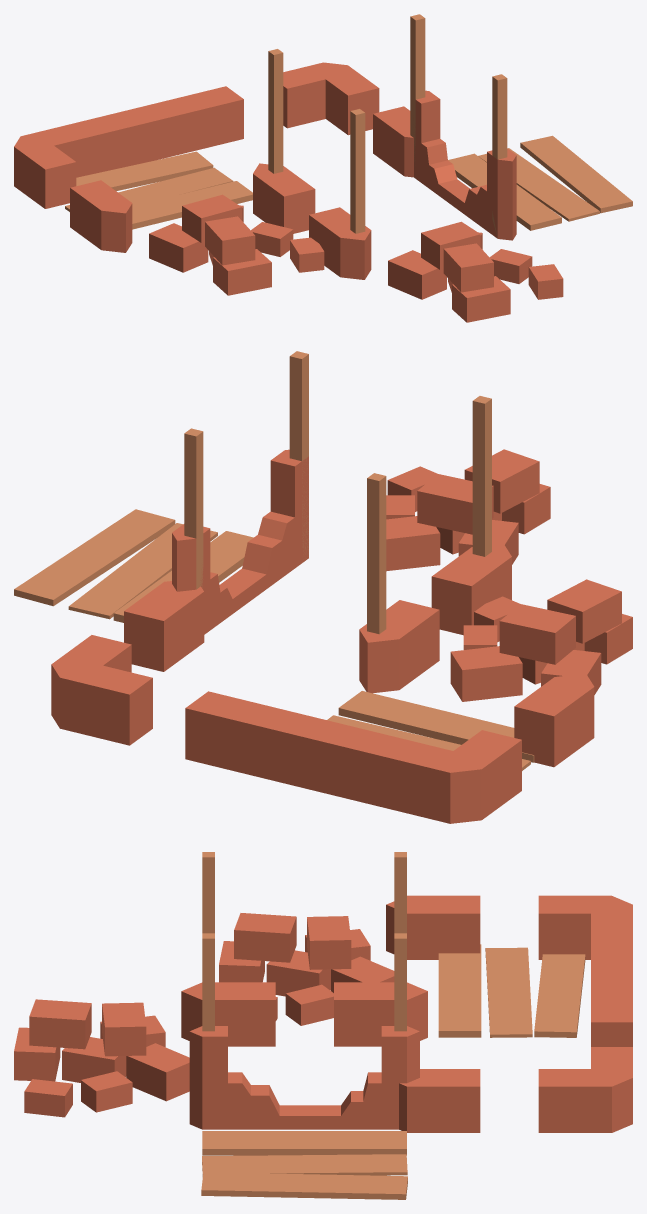
The model's file is Casa5Rota.FBX.
3 renders of one model, top to bottom at view 1: azimuth 30°, elevation 25°; view 2: azimuth 150°, elevation 25°; view 3: azimuth 270°, elevation 25°, orthographic. The views are drawn at different scales.
Parts seen in each view (by area): view 1: planks_floorHalf_66; view 2: planks_floorHalf_66; view 3: planks_floorHalf_66.
Boxes of the visible parts, x1=… form: planks_floorHalf_66: x1=14, y1=14, x2=632, y2=322; planks_floorHalf_66: x1=14, y1=351, x2=632, y2=823; planks_floorHalf_66: x1=14, y1=852, x2=632, y2=1199.
Size of the model in its own units: 2978 by 1000 by 3022.
